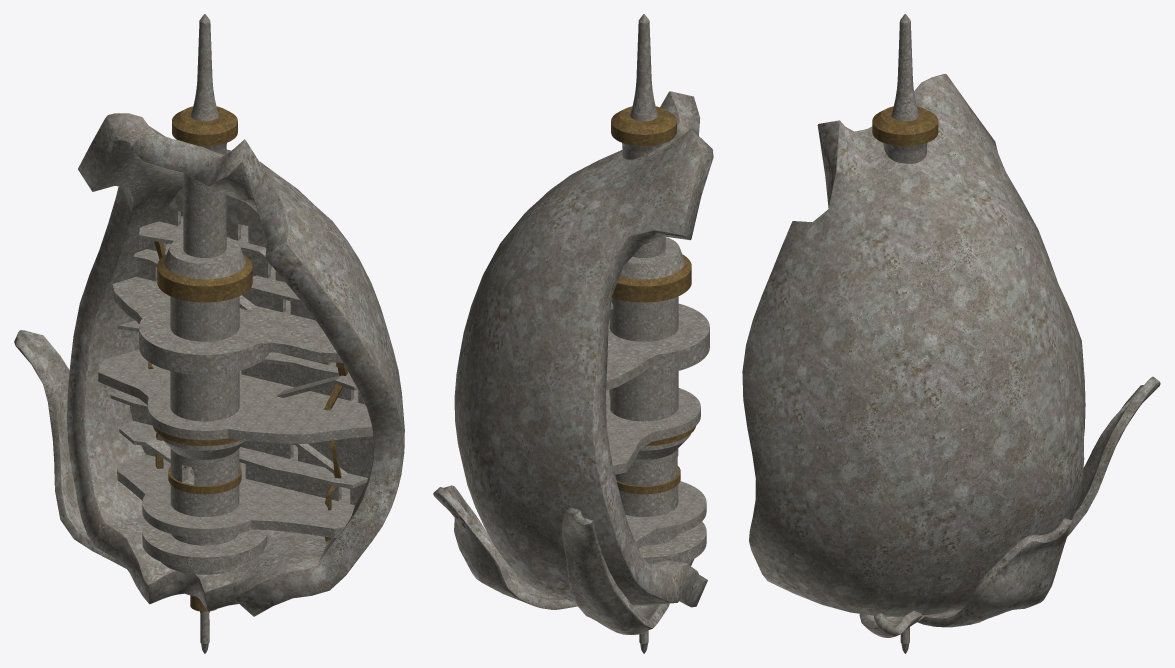
The model's file is mg_12_cage_0.fbx.
3 views of the same model, side by side, from view 1: azimuth 30°, elevation 25°; view 2: azimuth 150°, elevation 25°; view 3: azimuth 270°, elevation 25° (orthographic).
Visible parts, largest first — view 1: mg_12_cage_0; view 2: mg_12_cage_0; view 3: mg_12_cage_0.
Boxes of the visible parts, x1,y1,x2,y2 form: mg_12_cage_0: (14, 14, 404, 653); mg_12_cage_0: (433, 14, 713, 653); mg_12_cage_0: (742, 14, 1160, 653).
Size of the model in its own units: 7784 by 18736 by 11097.
